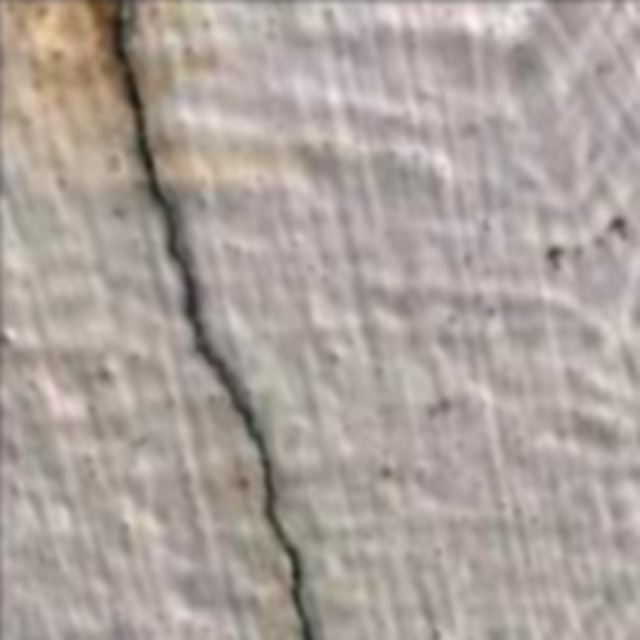SurfaceCrack: (96, 0, 342, 640)
